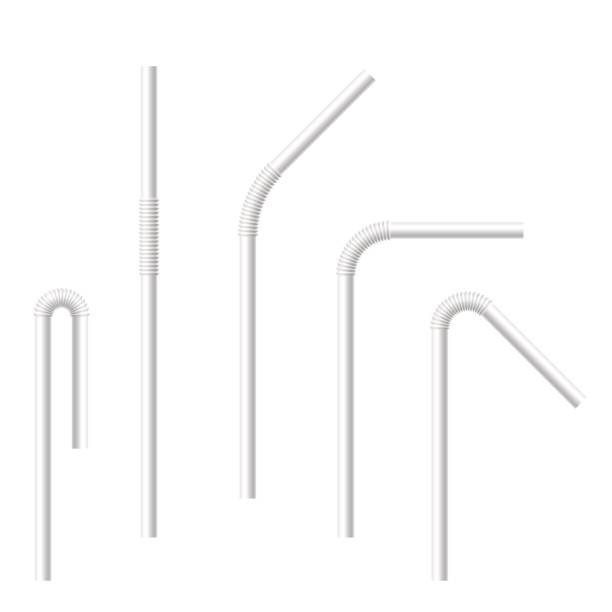Drinking Straw: (233, 67, 381, 505), (425, 282, 589, 586), (29, 282, 94, 587), (135, 62, 165, 544)
